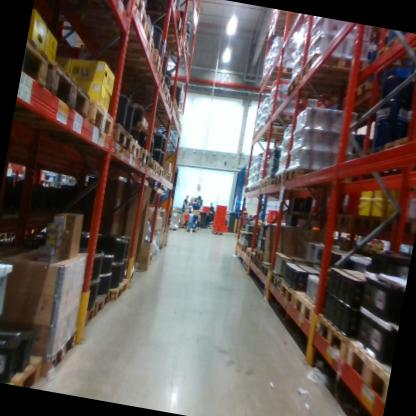pallet: (64, 8, 160, 60), (35, 318, 84, 390), (42, 54, 96, 118), (340, 335, 393, 400), (98, 35, 167, 81), (299, 47, 367, 93), (73, 0, 152, 37), (307, 301, 352, 359), (78, 91, 120, 148), (36, 0, 132, 21), (287, 73, 348, 106), (370, 30, 416, 73), (19, 39, 54, 93), (2, 350, 47, 389), (143, 6, 189, 39), (383, 114, 416, 159), (345, 202, 388, 236), (127, 66, 168, 99), (345, 77, 381, 112), (288, 281, 318, 323), (381, 211, 414, 245), (264, 59, 307, 85), (263, 107, 301, 131), (255, 120, 294, 143), (284, 163, 316, 190), (110, 120, 134, 154), (274, 274, 297, 309), (88, 288, 112, 321), (326, 205, 354, 233), (247, 127, 287, 146), (73, 306, 95, 338), (160, 35, 191, 57), (109, 276, 130, 304), (259, 73, 282, 96), (127, 136, 143, 163), (153, 85, 171, 107), (268, 265, 284, 289), (271, 166, 286, 188), (259, 173, 274, 193), (259, 259, 275, 277), (165, 96, 179, 115), (356, 237, 376, 250), (137, 147, 150, 166), (154, 159, 167, 177), (0, 228, 11, 248), (148, 158, 160, 174), (253, 245, 263, 263), (244, 242, 255, 258), (163, 99, 174, 115), (246, 249, 256, 266), (235, 235, 246, 250), (253, 257, 263, 272), (184, 225, 198, 235), (145, 155, 154, 170), (162, 171, 172, 184), (210, 228, 223, 236), (177, 223, 188, 232), (249, 181, 256, 195), (243, 184, 251, 194), (255, 181, 261, 193), (168, 226, 178, 233)
